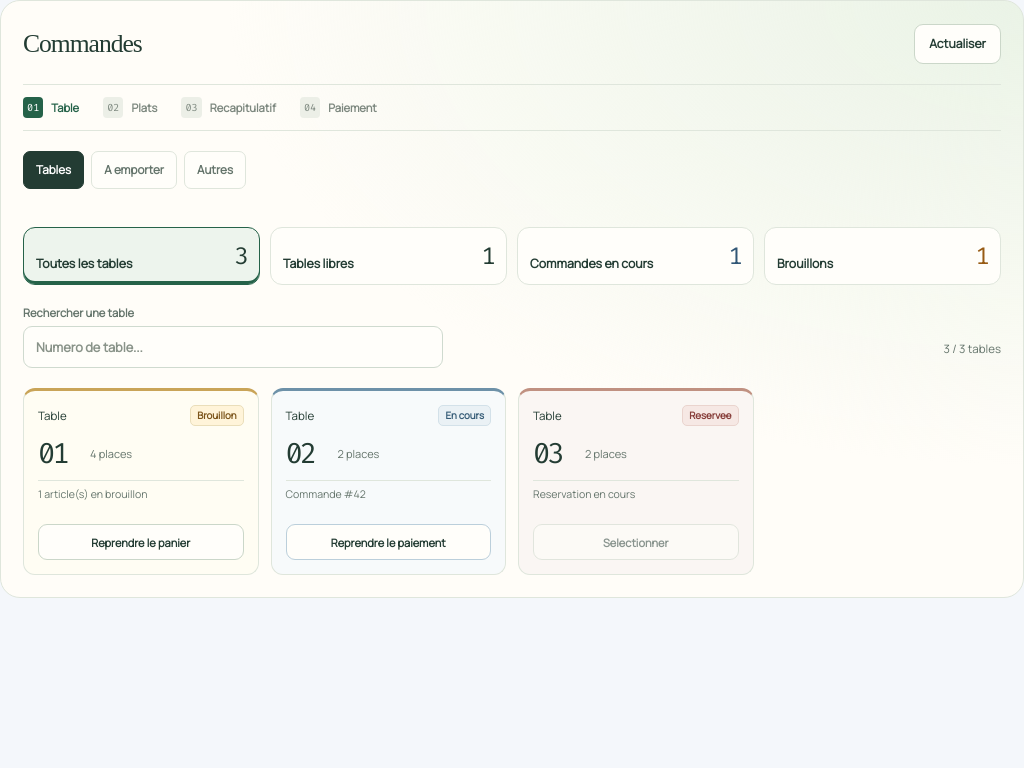
Test: keeps a deleted dish visible in the recap but prevents validation
Click the button with aria-label "Selectionner la table 1" at (141, 542), box [38,524,244,560]
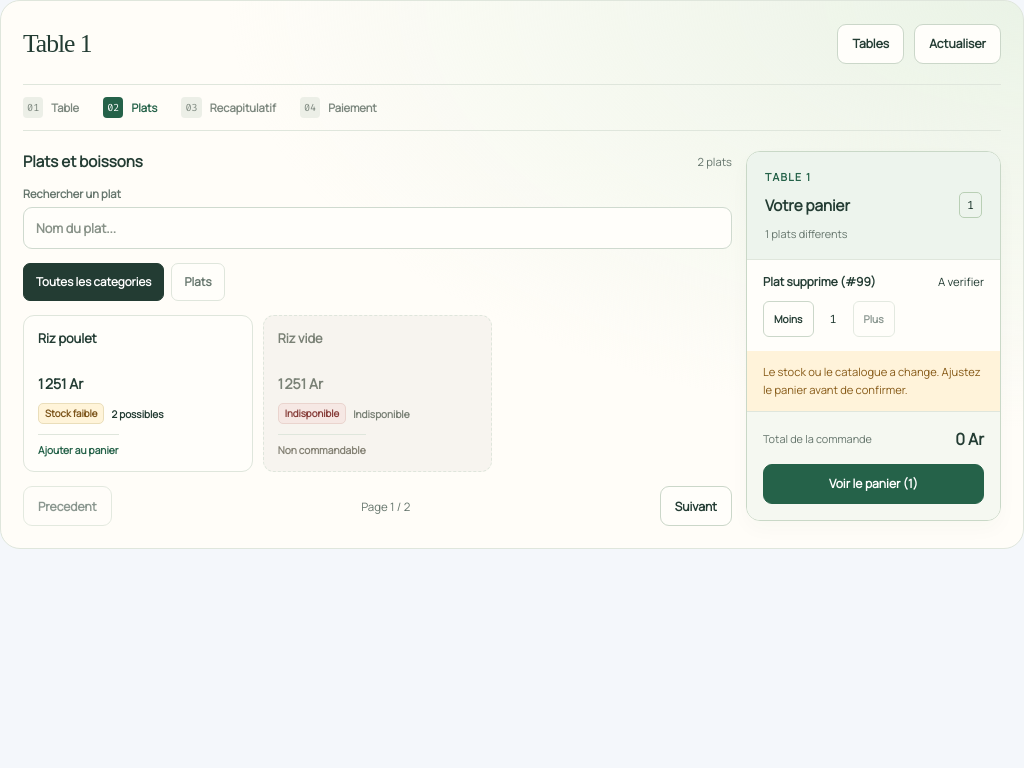
Click the button "Voir le panier (1)" at (874, 484), box [763,464,984,504]
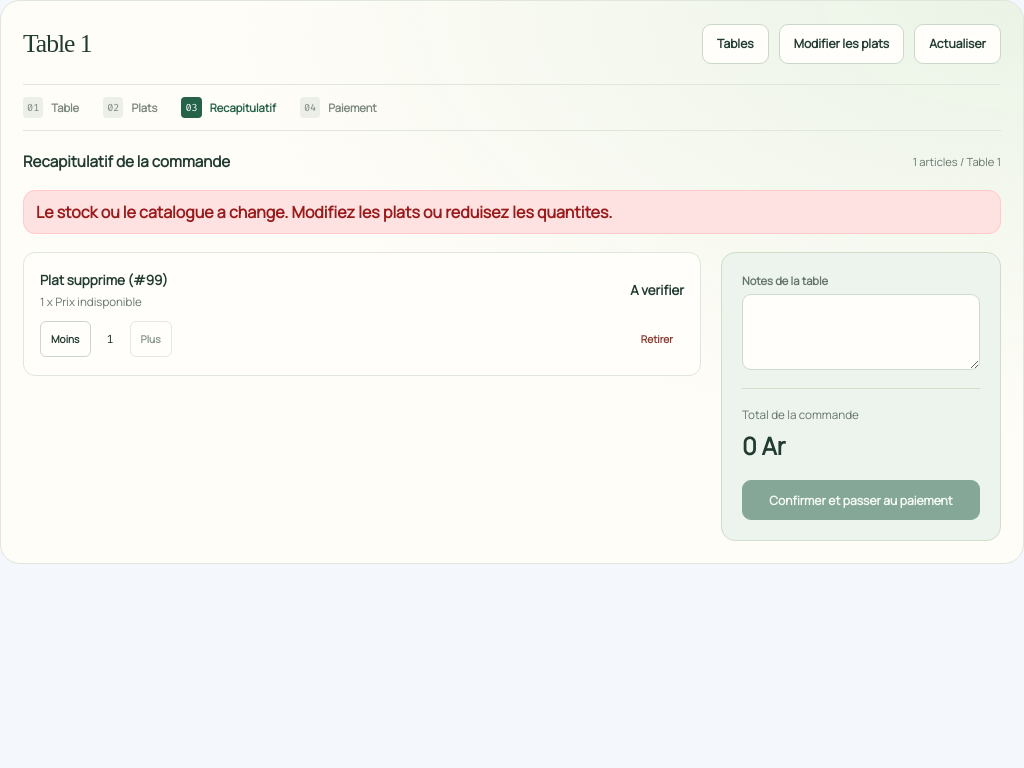
Result: the text "Plat supprime (#99)" is shown at [40,271,168,289]
Result: the button "Confirmer et passer au paiement" is disabled at [742,480,980,520]
Click the button "Retirer" at (657, 339), box [630,321,684,357]
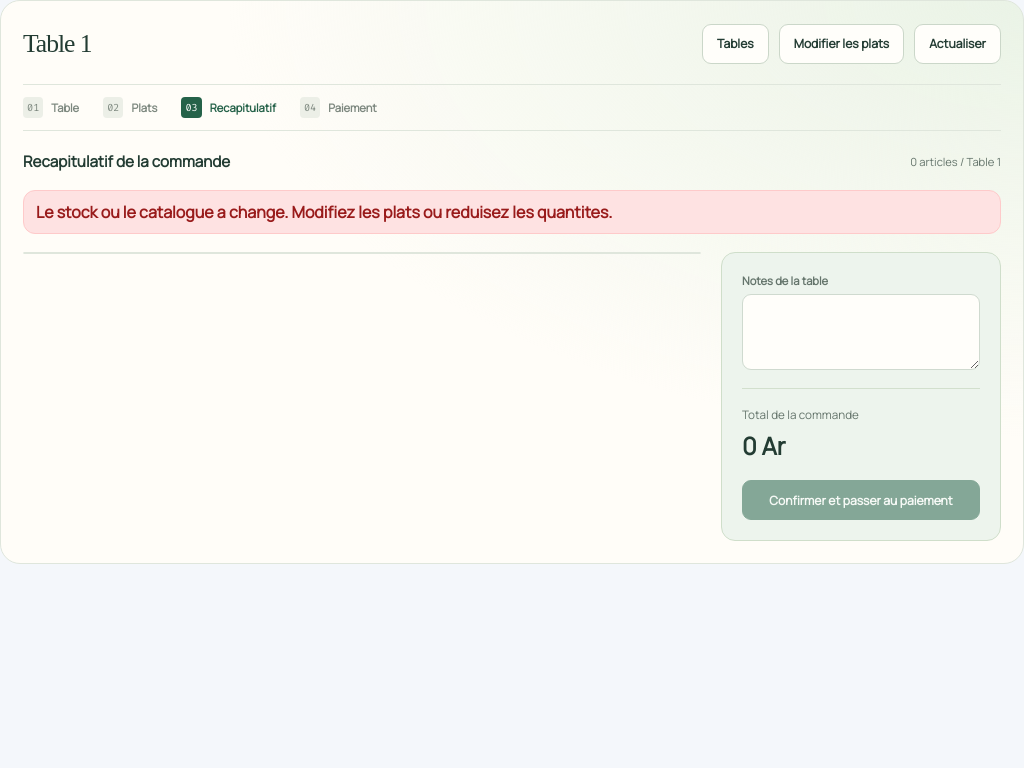
Result: the text "Plat supprime (#99)" is gone
